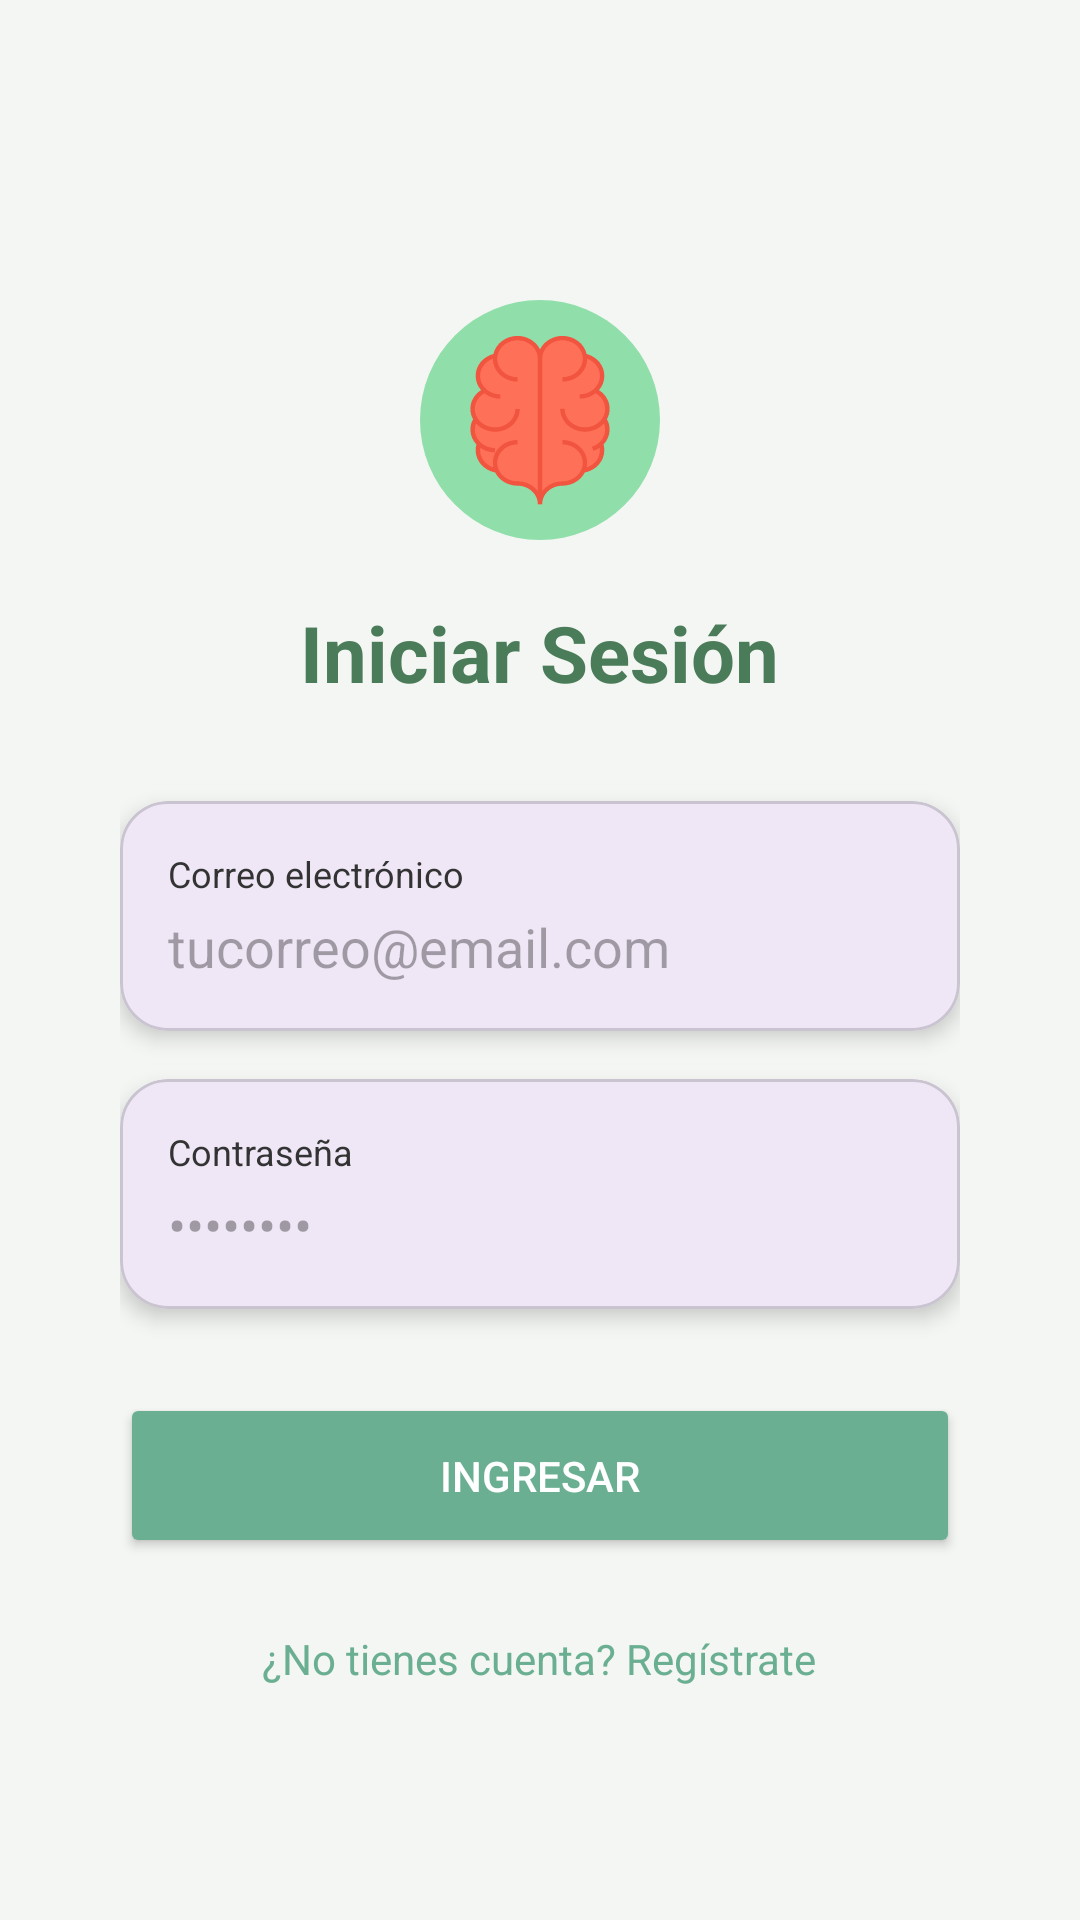

Named icons in this screenshot (1080x1920) and their centers, (x=x, y=y):
brain: (x=540, y=420)
